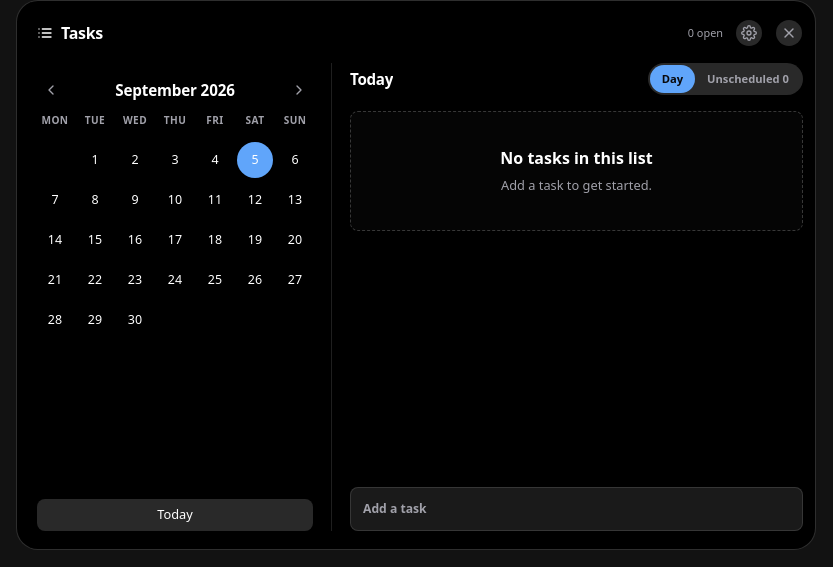
Scenario: Tasks surface › keeps scheduling controls out of the compact add form
Expected: the heading "Tasks" is shown, [61,25,103,41]
Click the button with aria-label "Add task". click: (395, 508)
box: [350,487,803,531]
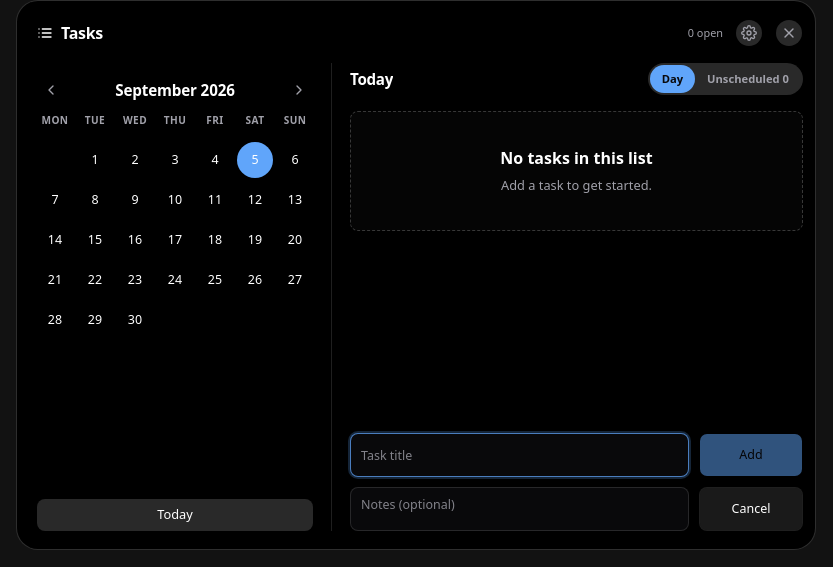
Expected: the button with aria-label "Add task" is disabled, [699,433,803,477]
Now the form named "Create task" is shown, box [350,433,803,531]
